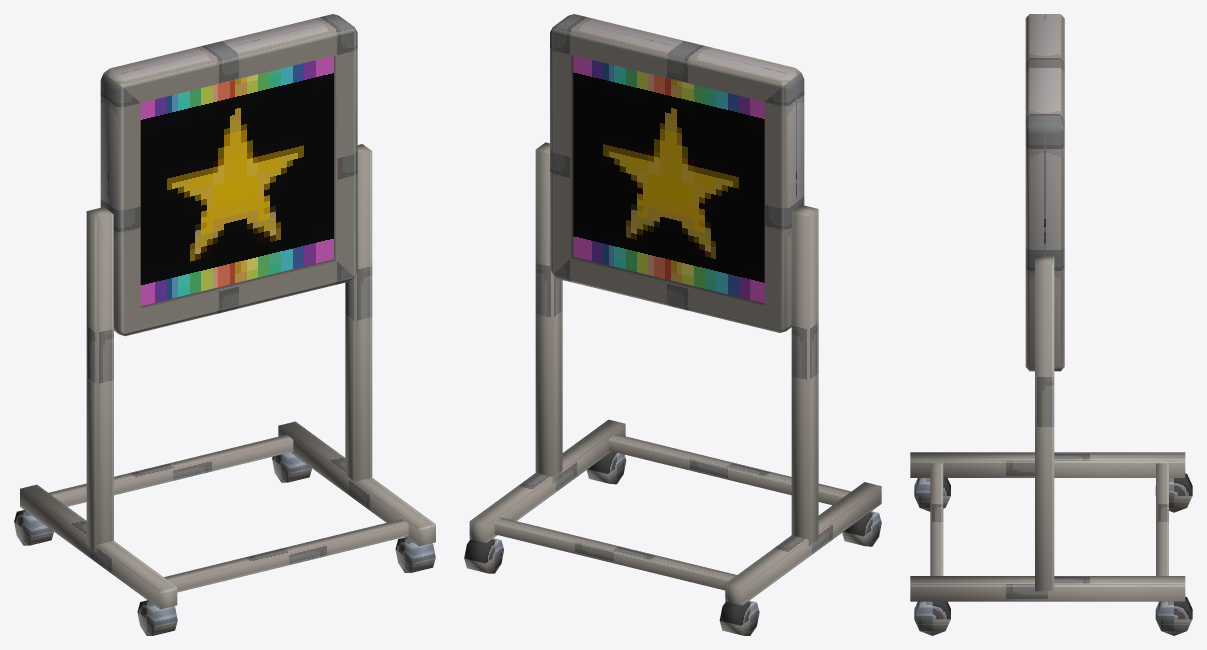
The model's file is rmk_oth_elebbs.dae.
The picture shows the model from 3 angles, left to right: view 1: azimuth 30°, elevation 25°; view 2: azimuth 150°, elevation 25°; view 3: azimuth 270°, elevation 25°; orthographic projection. The views are drawn at different scales.
Visible parts, largest first — view 1: rmk_oth_elebbs; view 2: rmk_oth_elebbs; view 3: rmk_oth_elebbs.
Part boxes in pixels (bbox=[...]): rmk_oth_elebbs: bbox=[14, 14, 435, 635]; rmk_oth_elebbs: bbox=[464, 14, 881, 635]; rmk_oth_elebbs: bbox=[910, 14, 1192, 635].
Bounding box in the file's own units: 29.65 × 51.95 × 26.46.
Materials: 2 (2 with a texture image).
